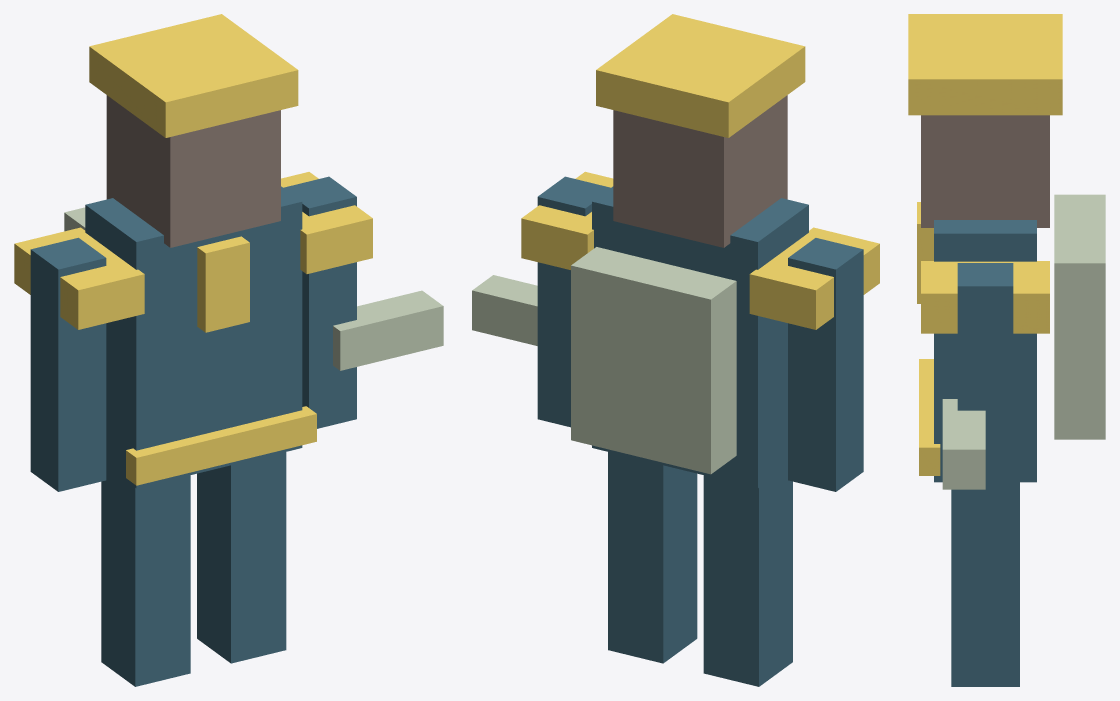
The model's file is 03_ossa_gantryn_keeper_at_surface.glb.
3 renders of one model, left to right at view 1: azimuth 30°, elevation 25°; view 2: azimuth 150°, elevation 25°; view 3: azimuth 270°, elevation 25°, orthographic.
Parts seen in each view (by area): view 1: Ossa Gantryn, Keeper at Surface; view 2: Ossa Gantryn, Keeper at Surface; view 3: Ossa Gantryn, Keeper at Surface.
Boxes of the visible parts, box(x1,y1,x2,y2) form: Ossa Gantryn, Keeper at Surface: box(14, 14, 443, 686); Ossa Gantryn, Keeper at Surface: box(472, 14, 879, 686); Ossa Gantryn, Keeper at Surface: box(908, 14, 1105, 686).
Bounding box in the file's own units: 1.12 × 1.69 × 0.5027.
